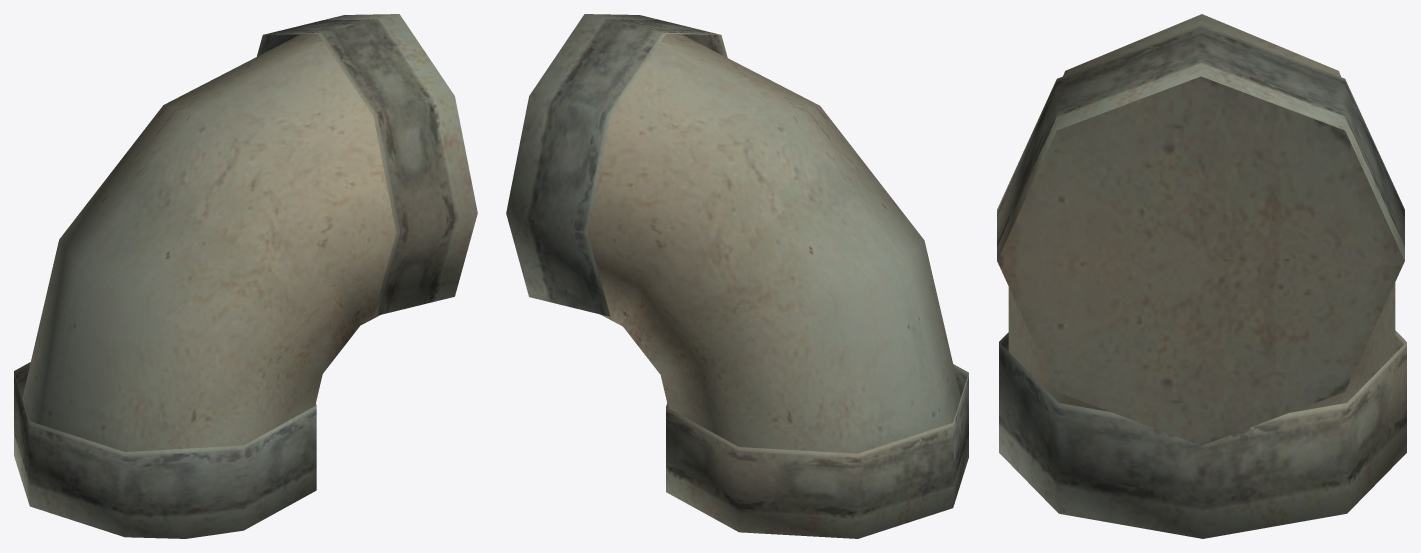
Rendered from ny_harbor_missle_room_elbow_pipe_02_lod2.glb.
3 renders of one model, left to right at view 1: azimuth 30°, elevation 25°; view 2: azimuth 150°, elevation 25°; view 3: azimuth 270°, elevation 25°, orthographic. The views are drawn at different scales.
Visible parts, largest first — view 1: surf0; view 2: surf0; view 3: surf0.
Boxes of the visible parts, x1,y1,x2,y2 form: surf0: (14,14,477,538); surf0: (506,14,968,538); surf0: (997,14,1406,538).
Bounding box in the file's own units: 22.98 × 23.98 × 16.97.
